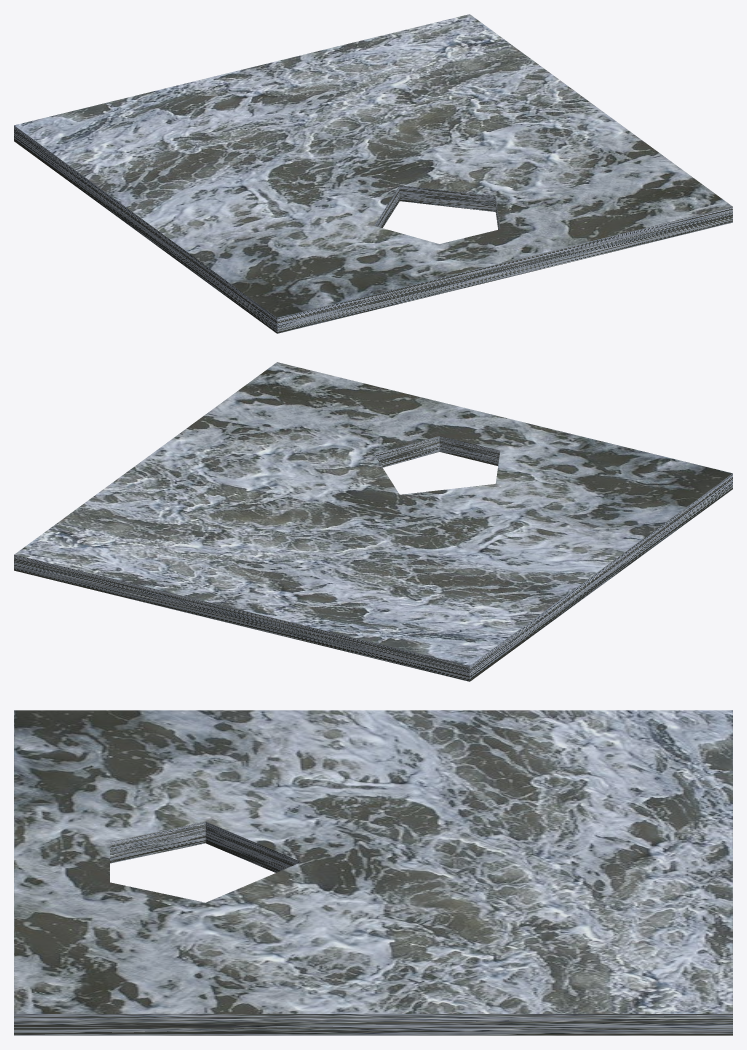
The model's file is Outerplane.FBX.
3 views of the same model, one above another, from view 1: azimuth 30°, elevation 25°; view 2: azimuth 150°, elevation 25°; view 3: azimuth 270°, elevation 25° (orthographic). The views are drawn at different scales.
Parts seen in each view (by area): view 1: PlanePentagon; view 2: PlanePentagon; view 3: PlanePentagon.
Part boxes in pixels (x1,y1,x2,y2): PlanePentagon: (14, 14, 732, 333); PlanePentagon: (14, 362, 732, 681); PlanePentagon: (14, 710, 732, 1035).
Bounding box in the file's own units: 300 × 10 × 300.
Materials: 1 (1 with a texture image).
